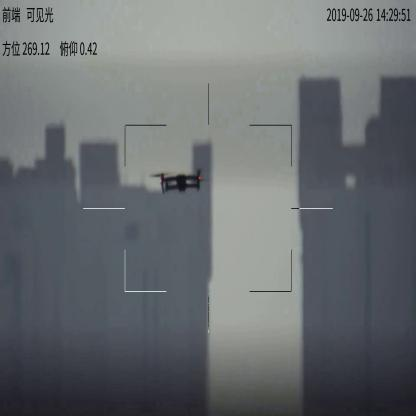uav: (148, 168, 210, 196)
